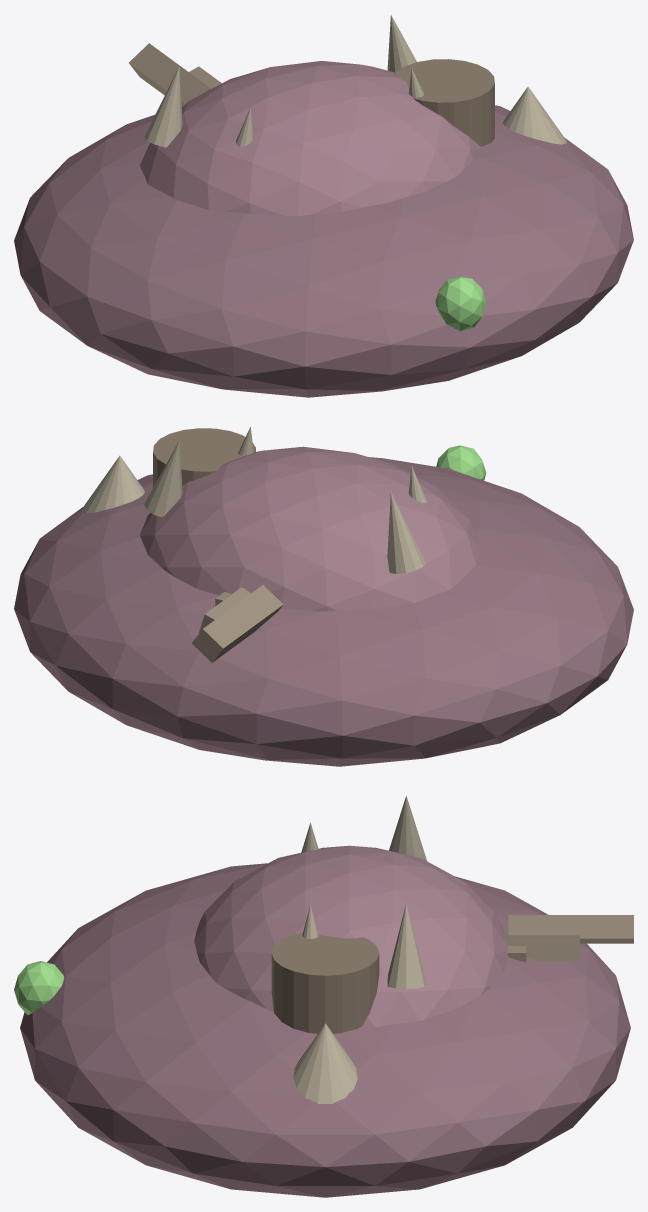
File: zglengo_spitter_den.glb
3 renders of one model, top to bottom at view 1: azimuth 30°, elevation 25°; view 2: azimuth 150°, elevation 25°; view 3: azimuth 270°, elevation 25°, orthographic. The views are drawn at different scales.
Parts seen in each view (by area): view 1: base_mound, back_mass, gun_organ, acid_sac, rib_4, muzzle, spine_2, spine_3; view 2: base_mound, back_mass, gun_organ, rib_4, muzzle, spine_2, spine_3, acid_sac, rib_3; view 3: base_mound, back_mass, gun_organ, muzzle, rib_4, spine_3, acid_sac, rib_3, spine_2.
Boxes of the visible parts, x1,y1,x2,y2 form: base_mound: (14,105,633,397); back_mass: (140,61,480,215); gun_organ: (394,59,494,146); acid_sac: (435,276,486,331); rib_4: (129,43,210,107); muzzle: (503,86,566,144); spine_2: (144,66,182,147); spine_3: (387,15,416,72); base_mound: (14,457,633,766); back_mass: (140,446,481,610); gun_organ: (153,428,255,487); rib_4: (191,585,283,662); muzzle: (81,455,144,513); spine_2: (387,492,425,573); spine_3: (144,440,182,517); acid_sac: (436,445,486,480); rib_3: (199,587,250,632); base_mound: (20,863,630,1197); back_mass: (194,845,508,1026); gun_organ: (271,932,379,1033); muzzle: (293,1023,357,1103); rib_4: (508,915,633,943); spine_3: (387,903,427,988); acid_sac: (14,961,64,1015); rib_3: (503,933,579,961); spine_2: (389,796,426,860).
Bounding box in the file's own units: 2.2 × 1.02 × 2.07.
